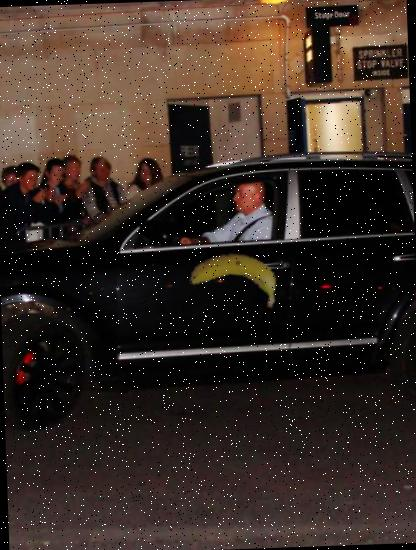Banana: (188, 233, 280, 326)
